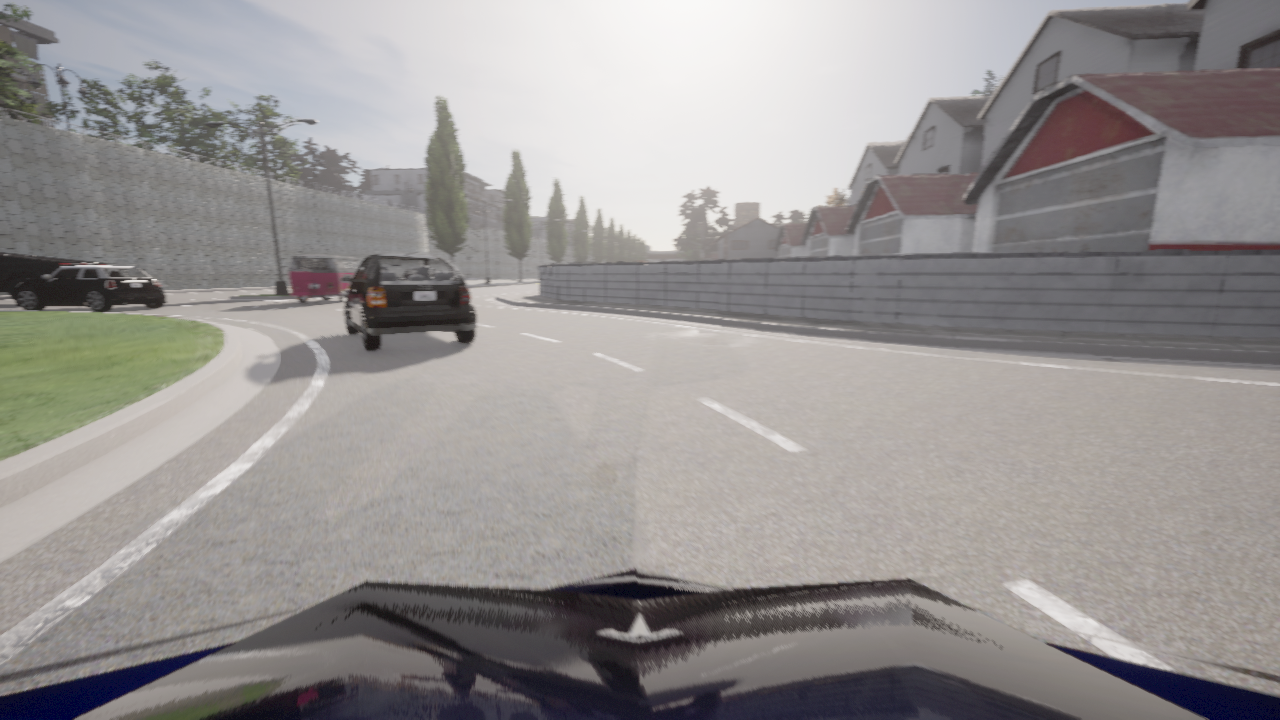cyclist: (0, 569, 1279, 719), (341, 254, 476, 351), (14, 266, 166, 311), (289, 255, 360, 303)
